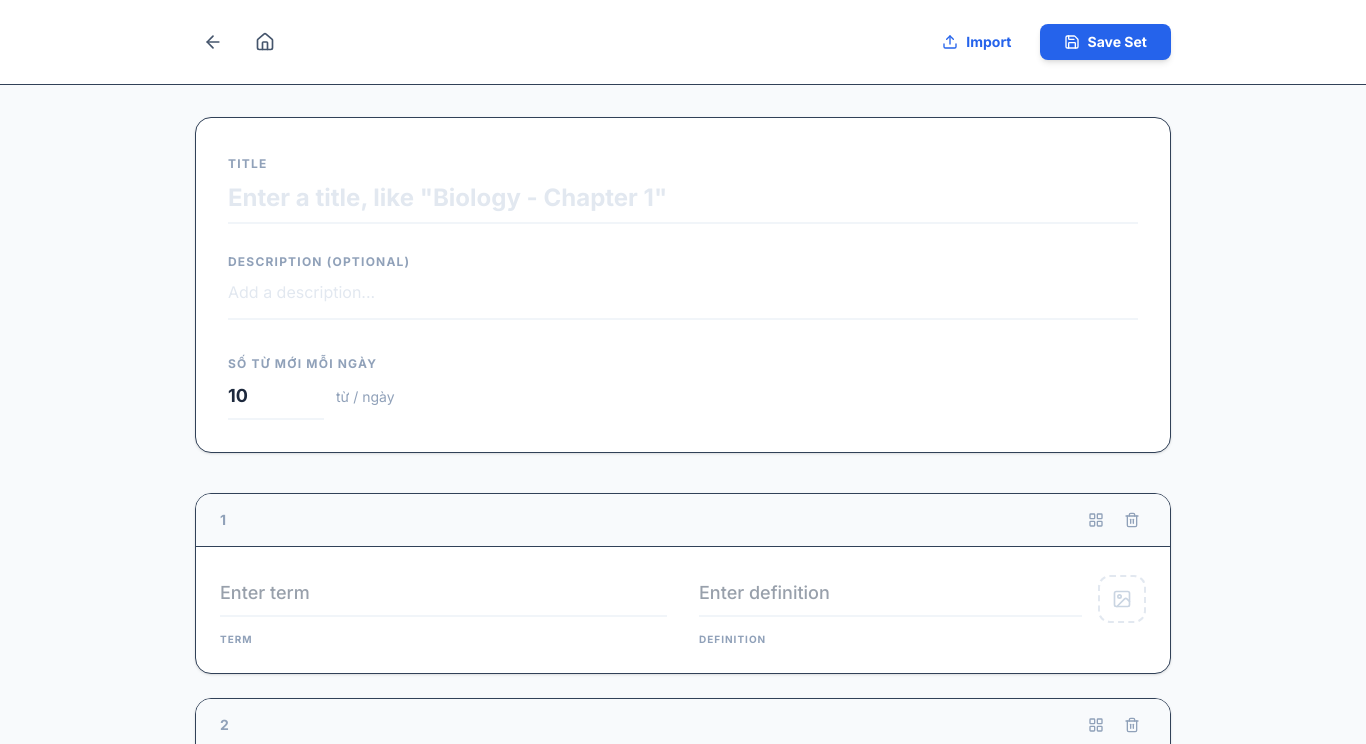
Test: SetEditor — handleSave › shows error toast when card has empty term or definition
This screenshot has width=1366, height=744.
# Set title but leave cards empty
In the field with placeholder "Enter a title, like \"Biology - Chapter 1\"": [683, 199] box [228,174,1138,224], type "My Set"
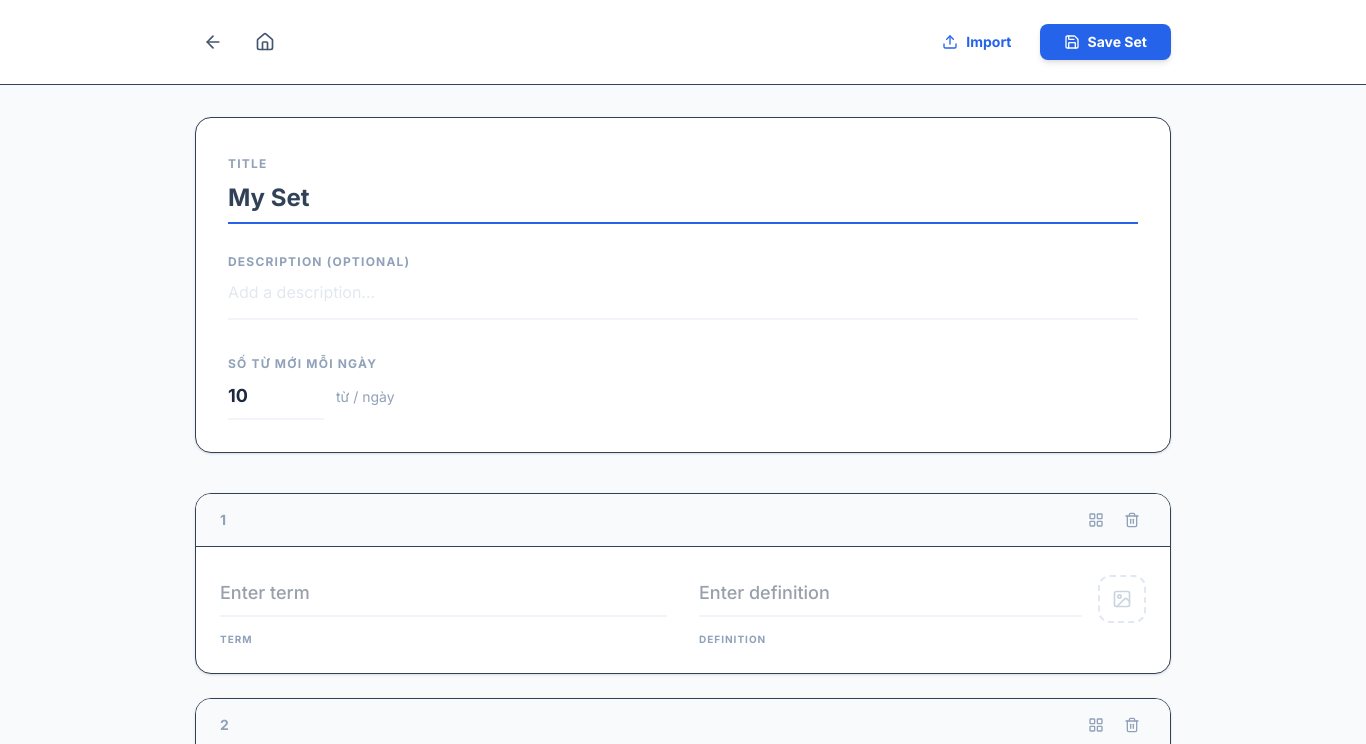
Click the button "Save Set": [1105, 42] box [1040,24,1171,60]
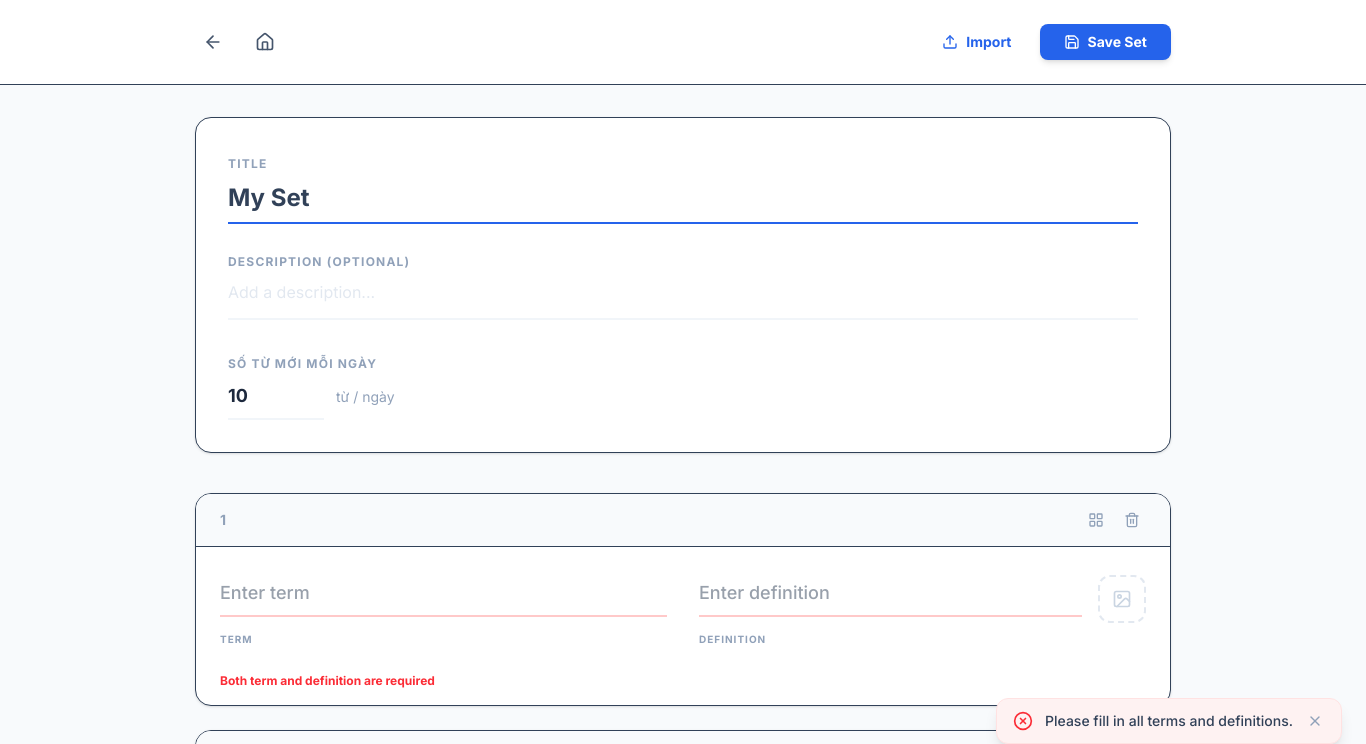
Check: the text "Please fill in all terms and definitions." is shown, box [1045,711,1293,731]
